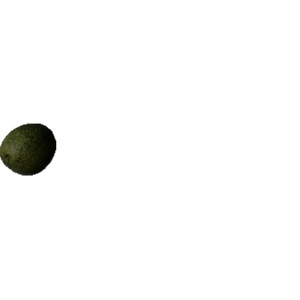abacate: (1, 122, 57, 177)
